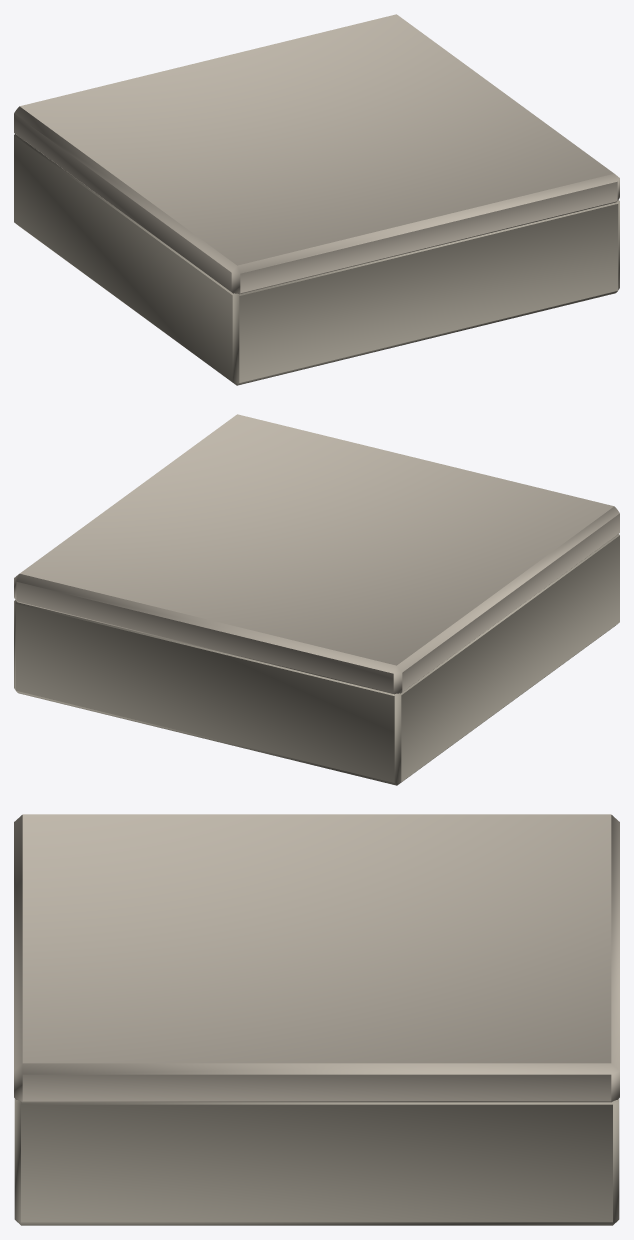
Rendered from tile_stone_ruin.glb.
3 views of the same model, one above another, from view 1: azimuth 30°, elevation 25°; view 2: azimuth 150°, elevation 25°; view 3: azimuth 270°, elevation 25° (orthographic). The views are drawn at different scales.
Visible parts, largest first — view 1: sr_cap, sr_body; view 2: sr_cap, sr_body; view 3: sr_cap, sr_body.
Part boxes in pixels (x1,y1,x2,y2): sr_cap: [14, 14, 619, 294]; sr_body: [14, 134, 619, 385]; sr_cap: [14, 414, 619, 694]; sr_body: [14, 534, 619, 785]; sr_cap: [14, 814, 619, 1102]; sr_body: [14, 1098, 619, 1225].
Bounding box in the file's own units: 1.7 × 0.5 × 1.7.
